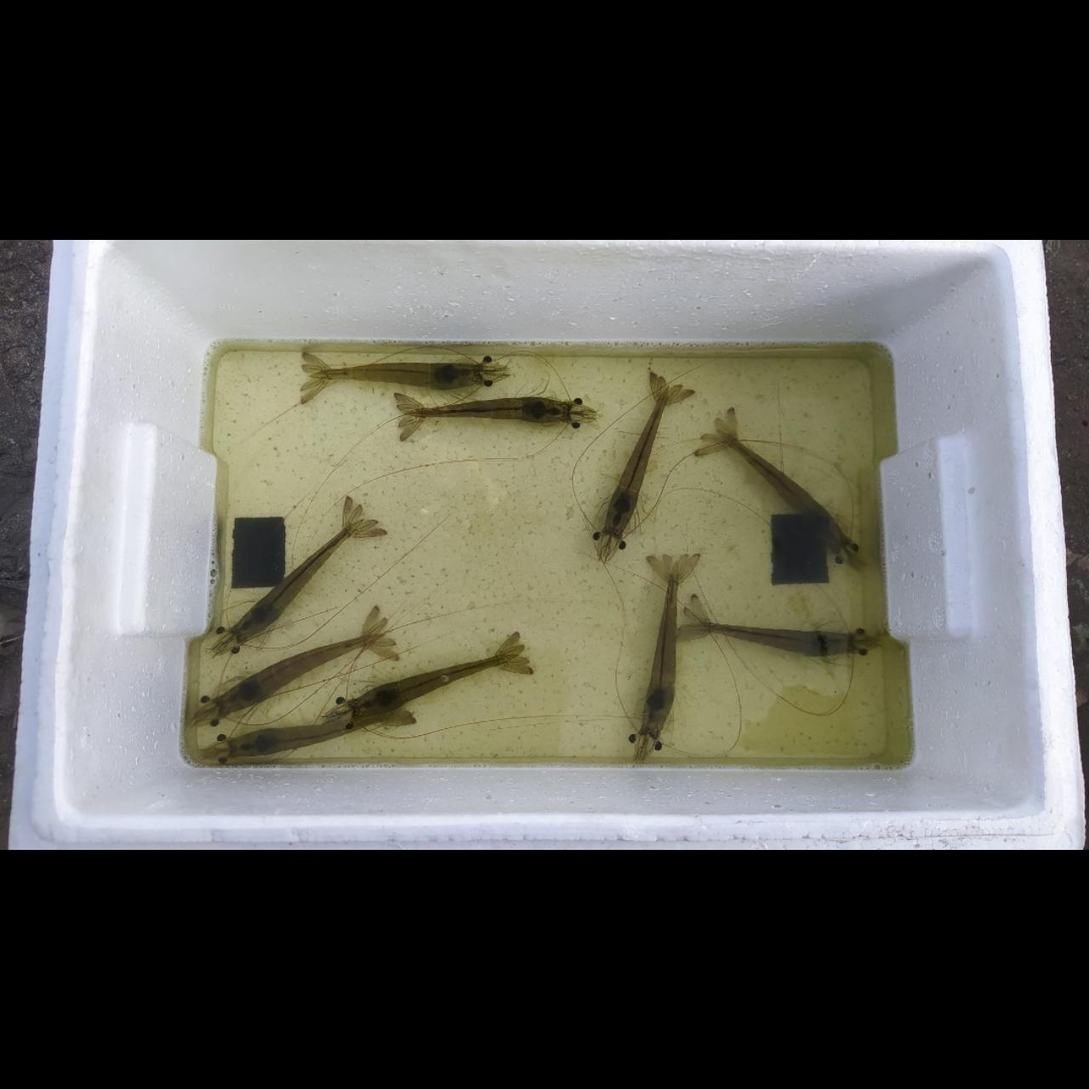box: (771, 515, 827, 581), (233, 516, 284, 586)
top_shrimp: (233, 518, 361, 642), (718, 431, 842, 545), (223, 632, 381, 707), (351, 651, 514, 714), (606, 387, 669, 532), (234, 704, 398, 754), (641, 567, 679, 731), (696, 619, 852, 654), (318, 360, 483, 387), (412, 396, 568, 423)
